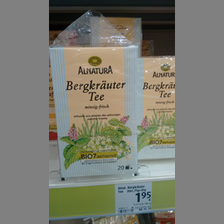tea: (50, 45, 143, 181)
